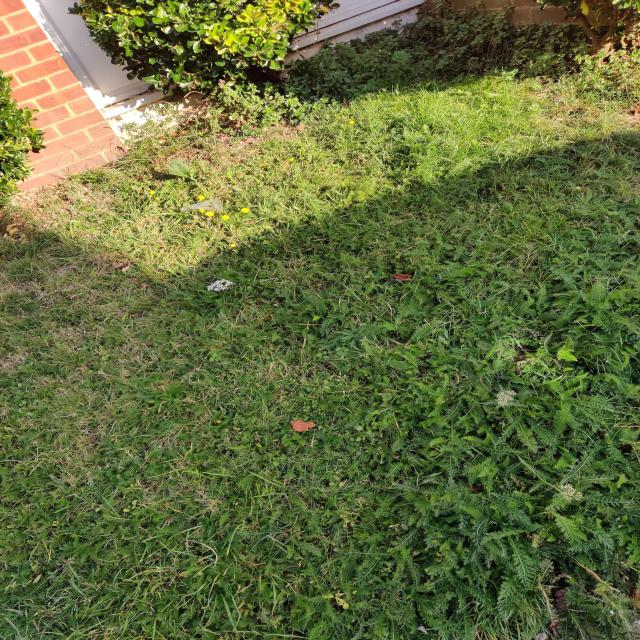litter: (178, 197, 223, 211)
